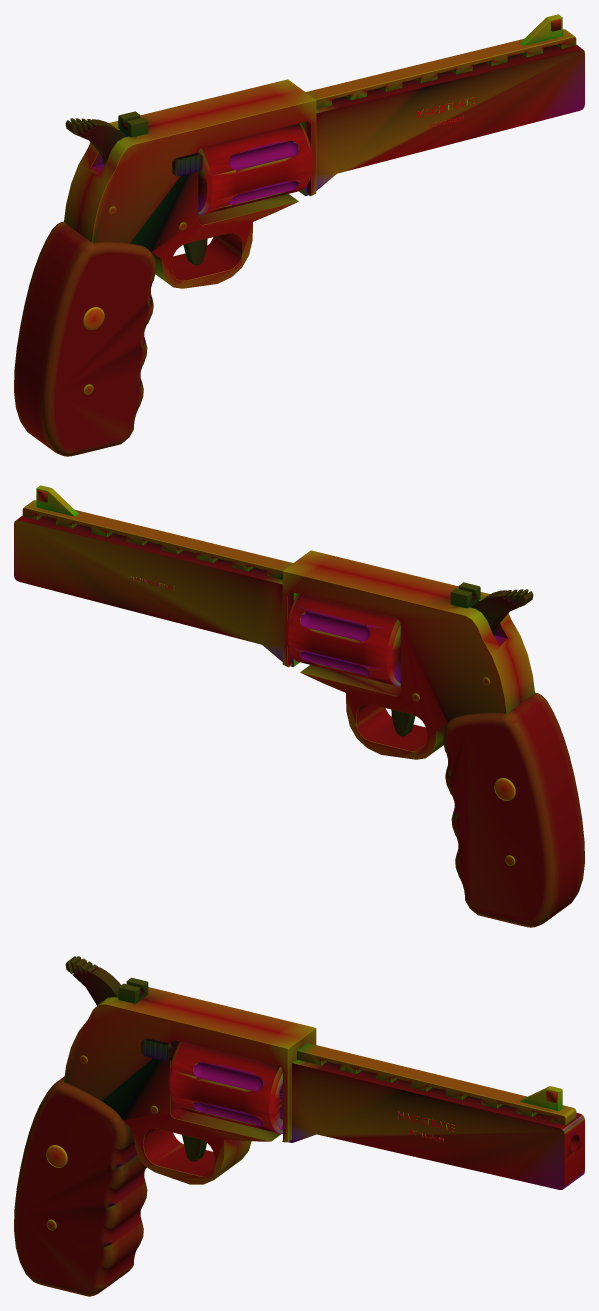
The model's file is magistrate.glb.
3 renders of one model, top to bottom at view 1: azimuth 30°, elevation 25°; view 2: azimuth 150°, elevation 25°; view 3: azimuth 330°, elevation 25°, orthographic.
Parts seen in each view (by area): view 1: base; view 2: base; view 3: base.
Boxes of the visible parts, x1,y1,x2,y2 form: base: [14, 14, 584, 456]; base: [14, 485, 584, 927]; base: [14, 956, 584, 1296].
Size of the model in its own units: 0.3106 by 0.174 by 0.0412.
